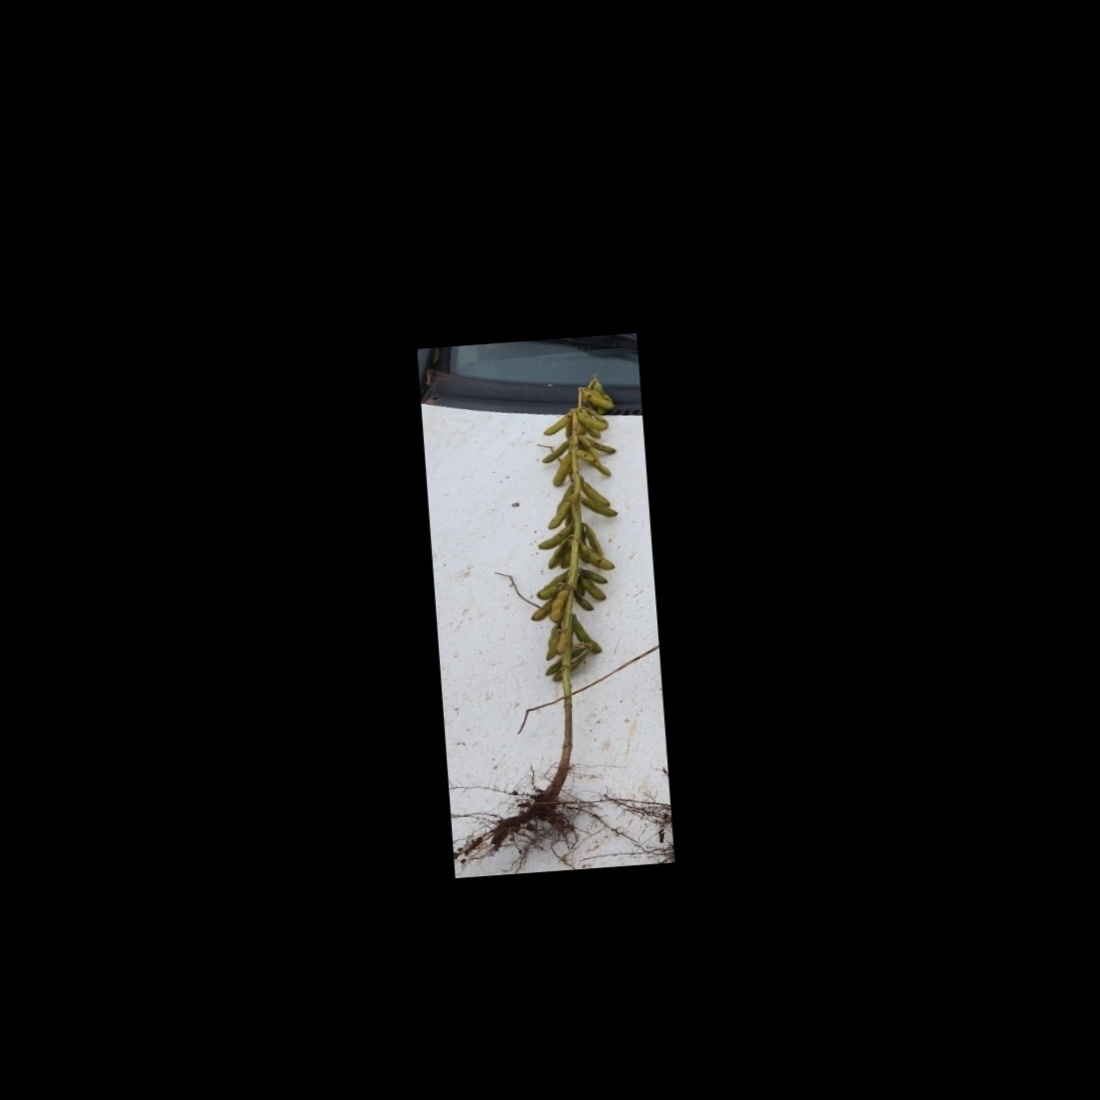pod: (573, 611, 603, 656), (549, 452, 576, 491), (536, 413, 572, 437), (549, 587, 573, 622), (545, 502, 572, 530), (571, 589, 594, 613)
soy: (451, 365, 667, 849)
